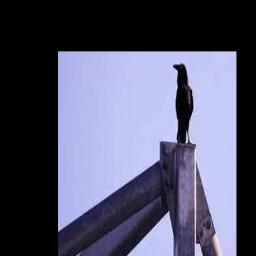Crow: (172, 64, 193, 144)
